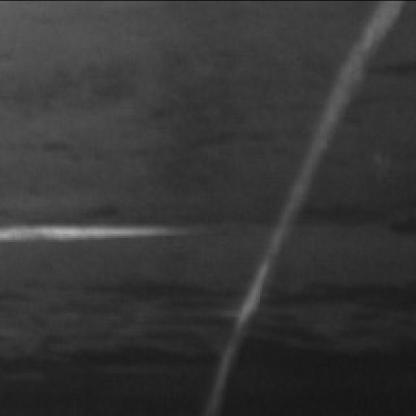inclusion: (0, 274, 410, 414)
scratches: (206, 2, 401, 406), (0, 212, 198, 248)
